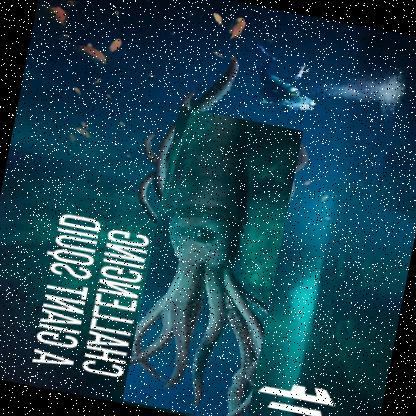colossal_squid: (120, 105, 303, 415)
